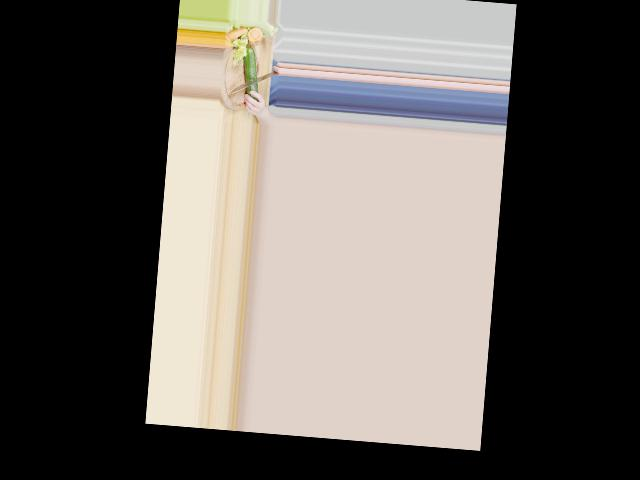cucumber: (240, 45, 261, 100)
